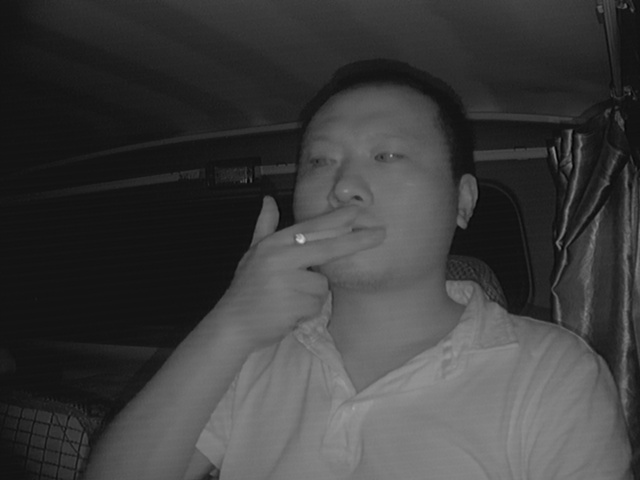hand: (238, 192, 383, 344)
